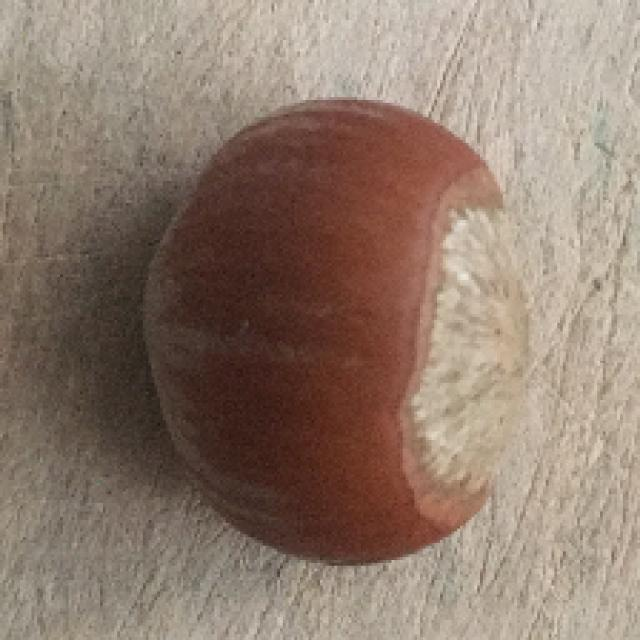qualityHazelnut: (136, 80, 551, 571)
